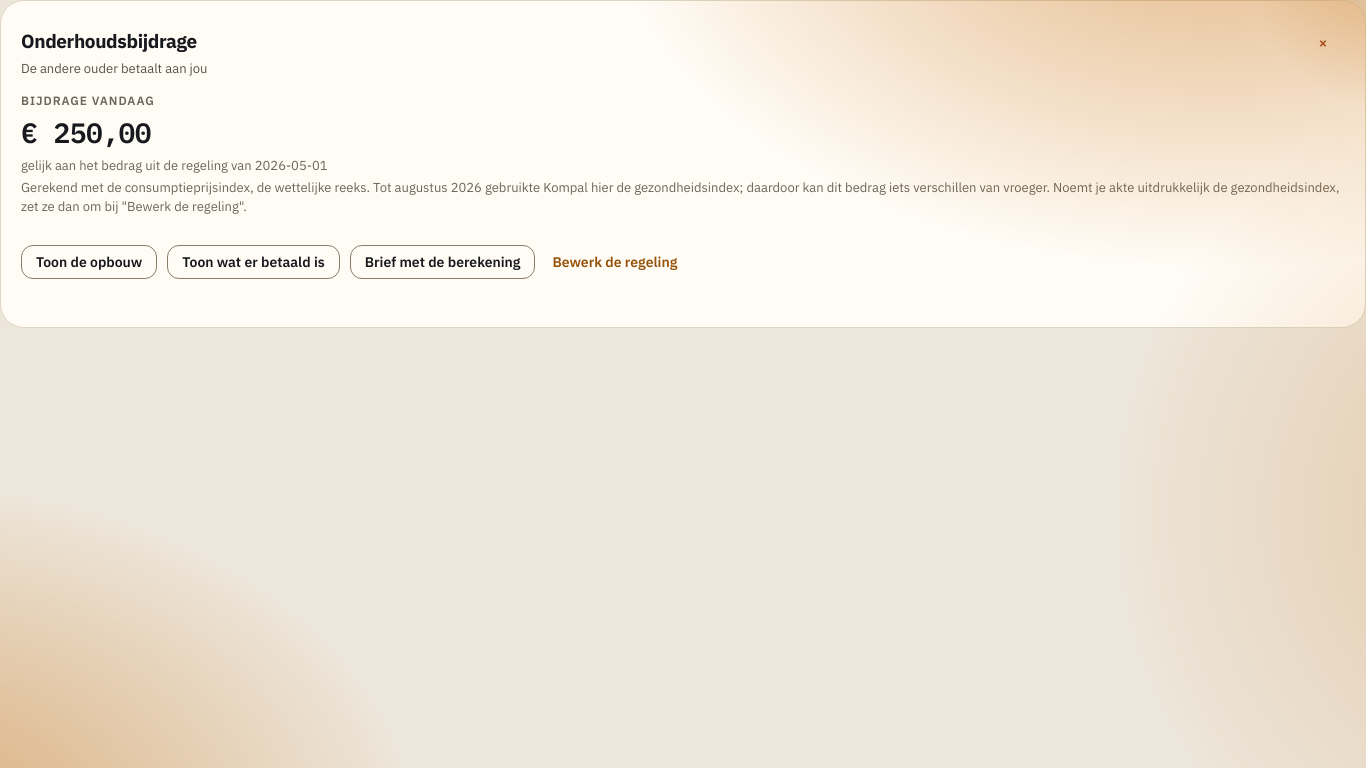
Scenario: OnderhoudsbijdrageSectie — de opbouw › zegt wanneer de eerste verjaardag nog moet komen
Step 1. Click the button "Toon de opbouw" → {"x": 89, "y": 262}, box [21,244,157,279]
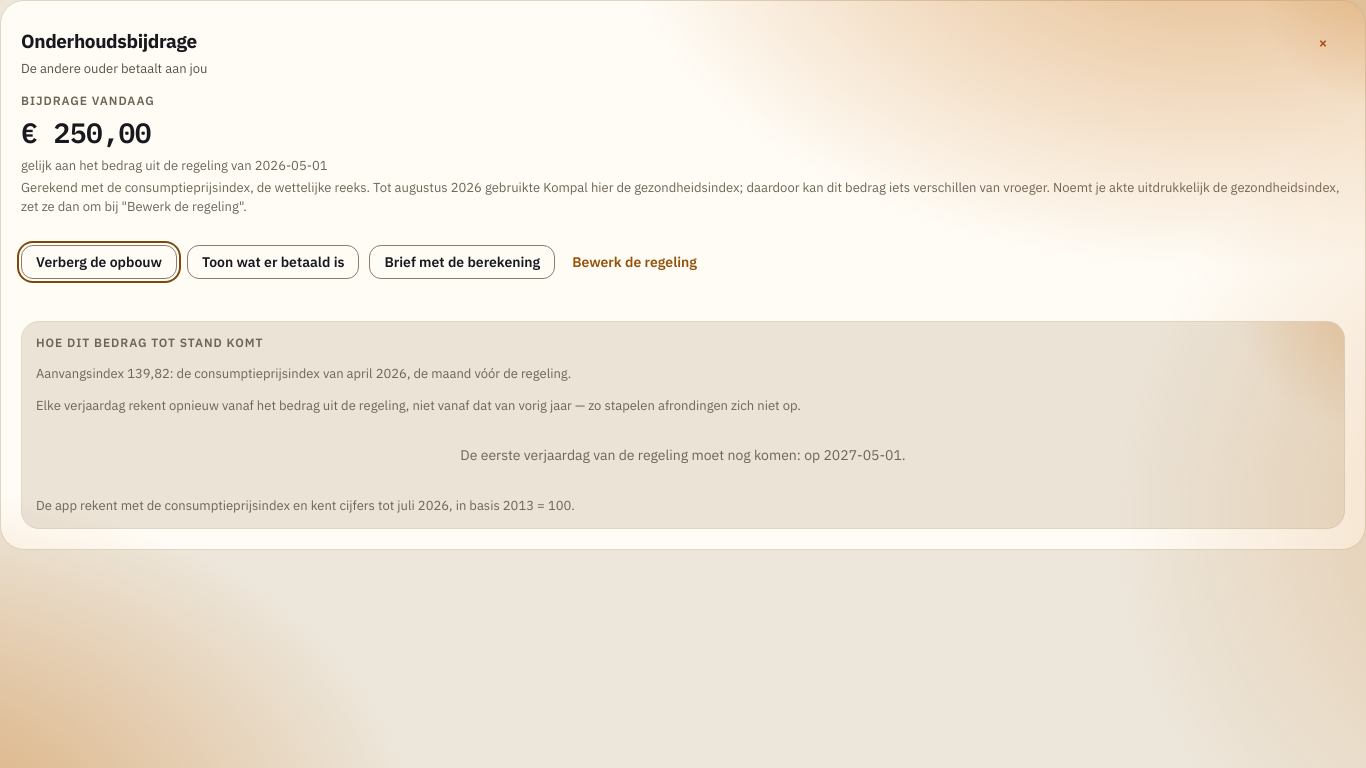
Expected: the element that starts with "Hoe dit bedrag tot stand komt" shows "2027-05-01", [460,446,906,464]
